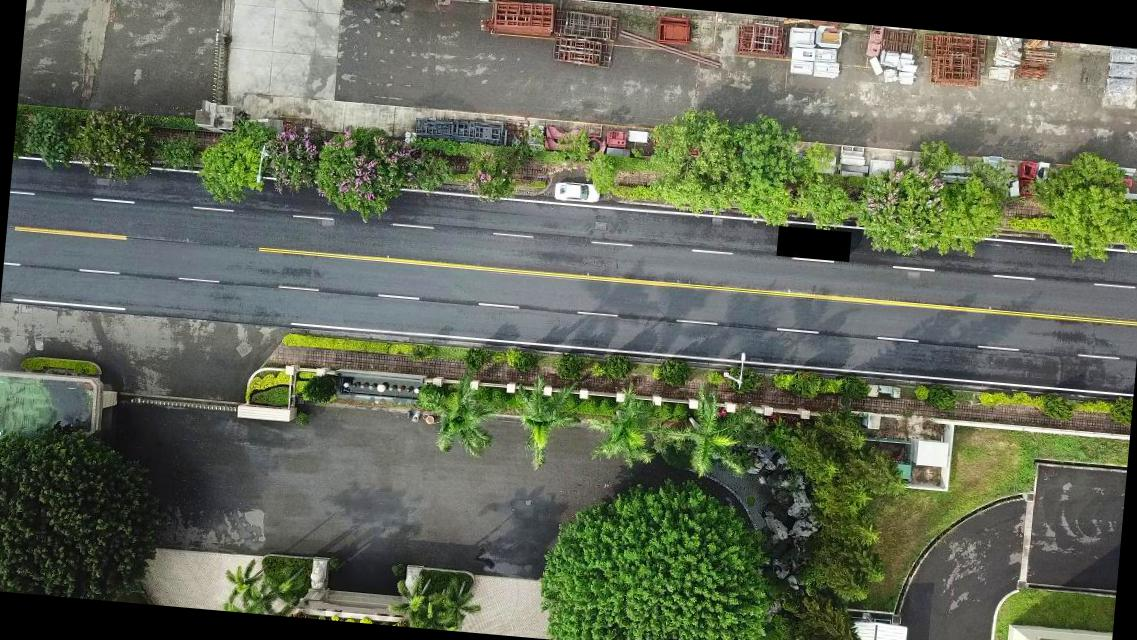vehicle: (551, 177, 600, 207)
